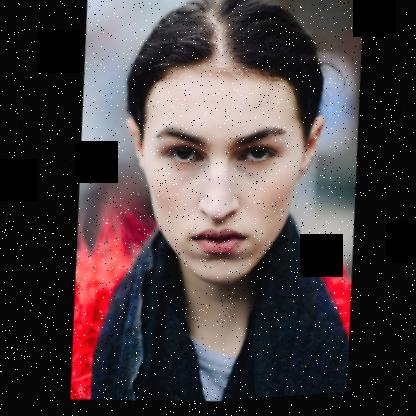Female: (110, 48, 334, 294)
